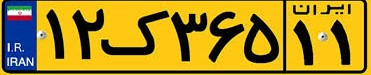character: (103, 5, 171, 60), (208, 4, 250, 65), (243, 4, 282, 65), (171, 6, 210, 63), (68, 3, 105, 62), (322, 17, 359, 68), (42, 3, 67, 62), (291, 17, 318, 67)
